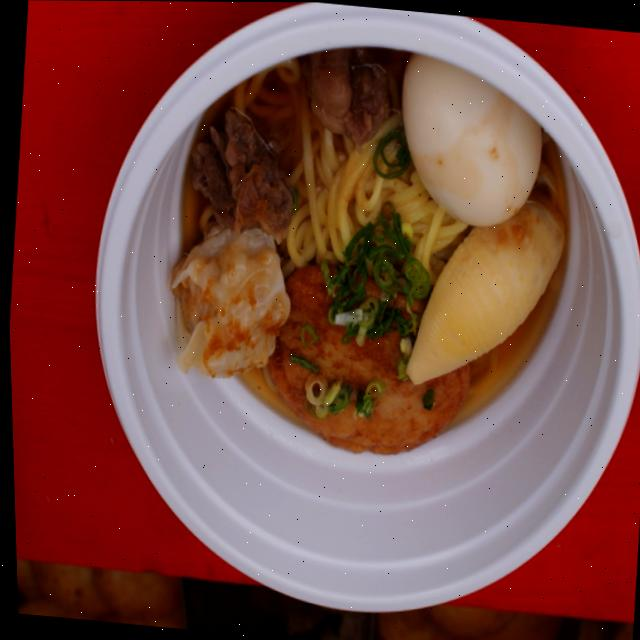汤锅炖物: (144, 26, 537, 470)
